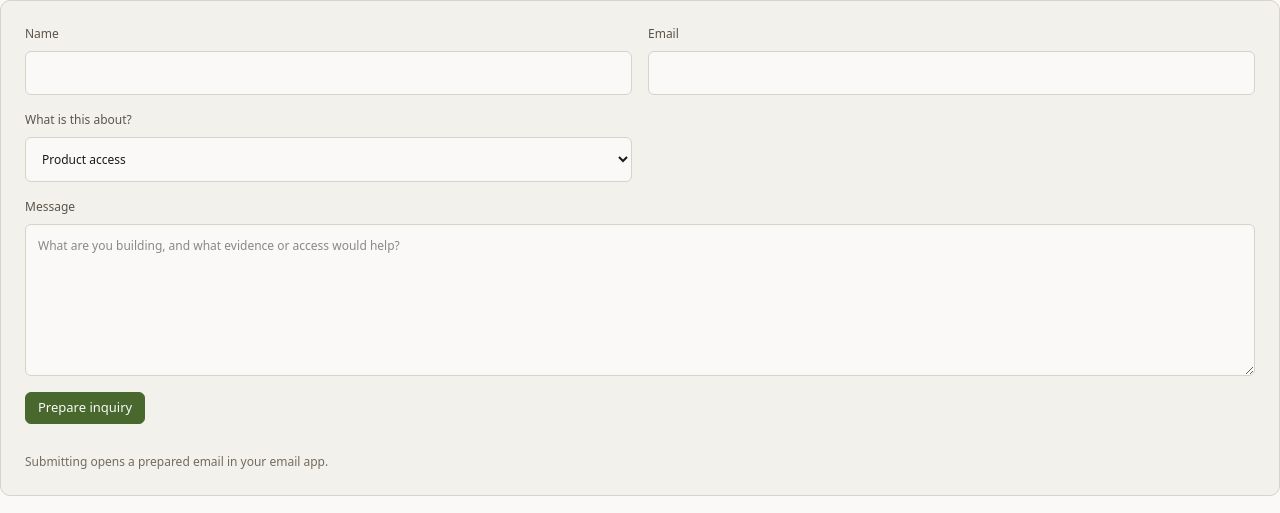
contact form: submitting sends the exact fields the visitor typed, as JSON, to POST /api/contact
The width and height of the screenshot is (1280, 513).
Type "Ada Lovelace" into the field labelled "Name" at (328, 73), box [25,51,632,95]
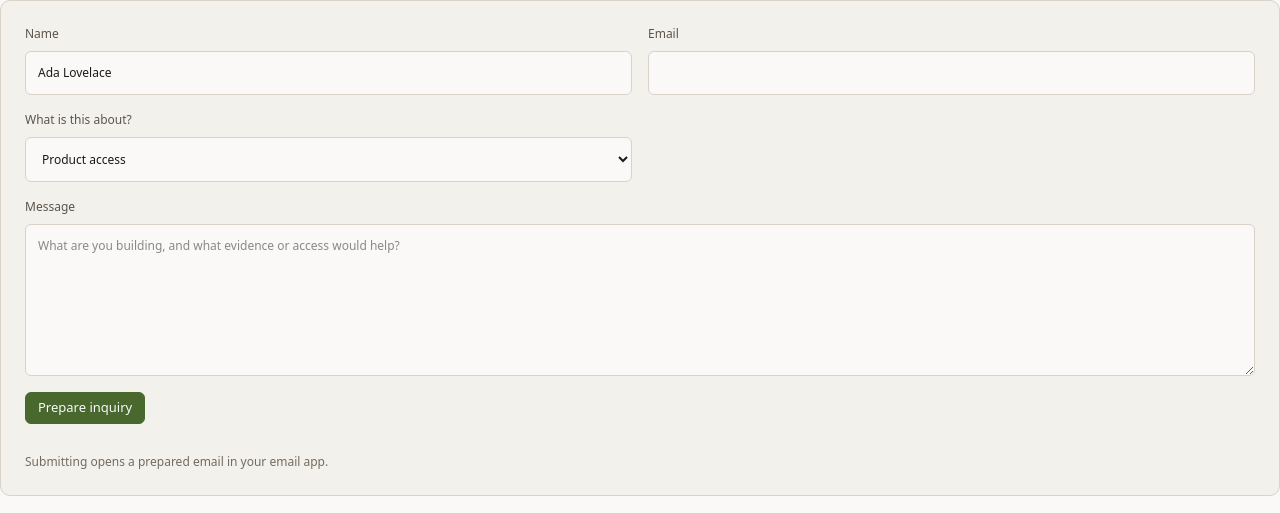
Type "ada@example.com" into the field labelled "Email" at (952, 73), box [648,51,1255,95]
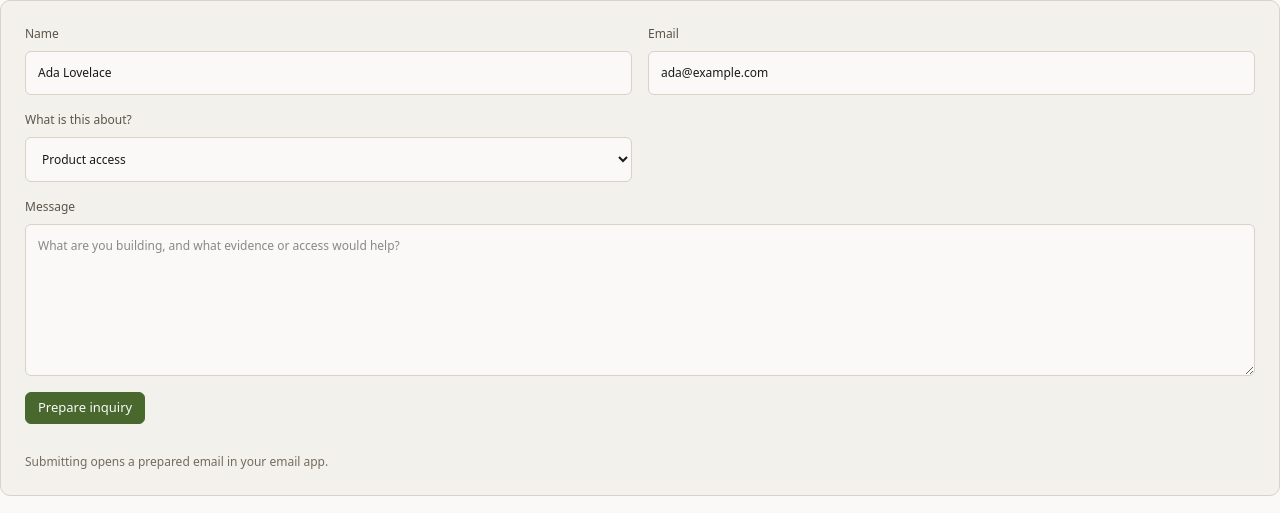
Replace the text in the text box labelled "Message" with "Does Leona support Cirq?" at (640, 300), box [25,224,1255,376]
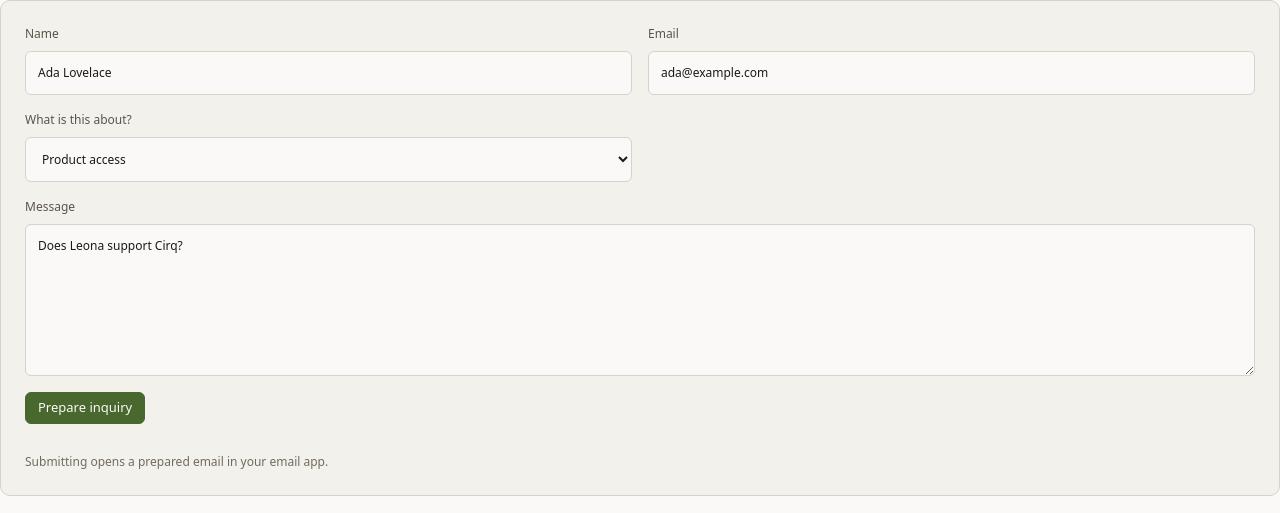
Submit the form
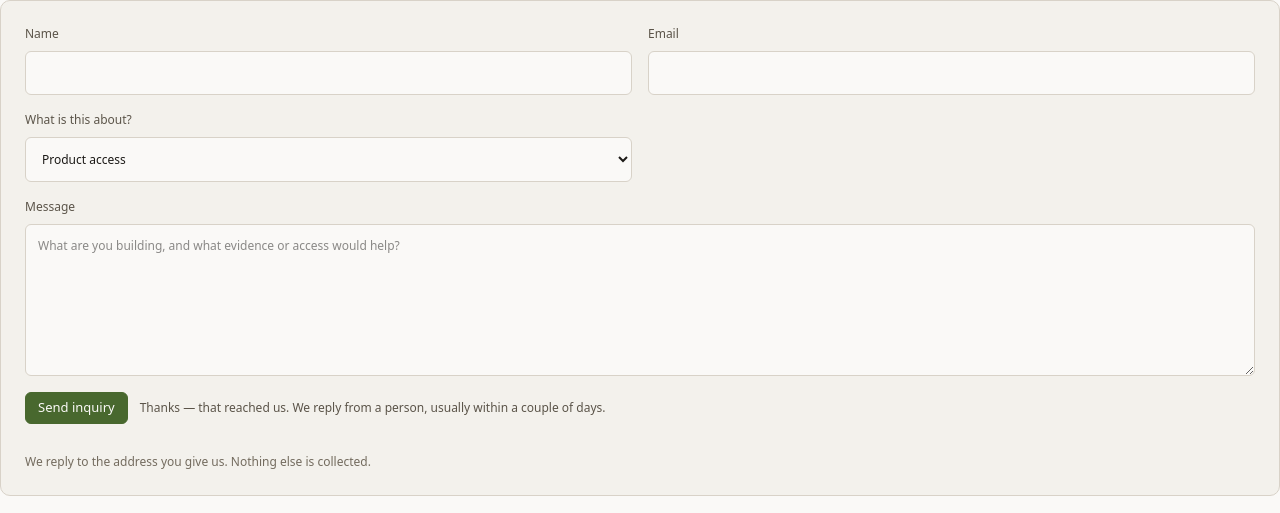
Check: the message shows "Thanks — that reached us. We reply from a person, usually within a couple of days.", box [140,399,606,416]
